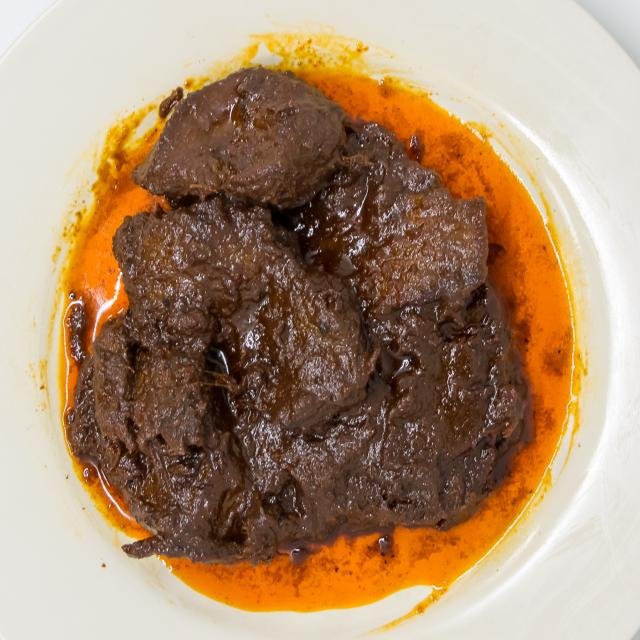Rendang: (68, 52, 547, 577)
